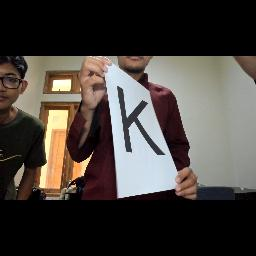k: (111, 82, 167, 160)
